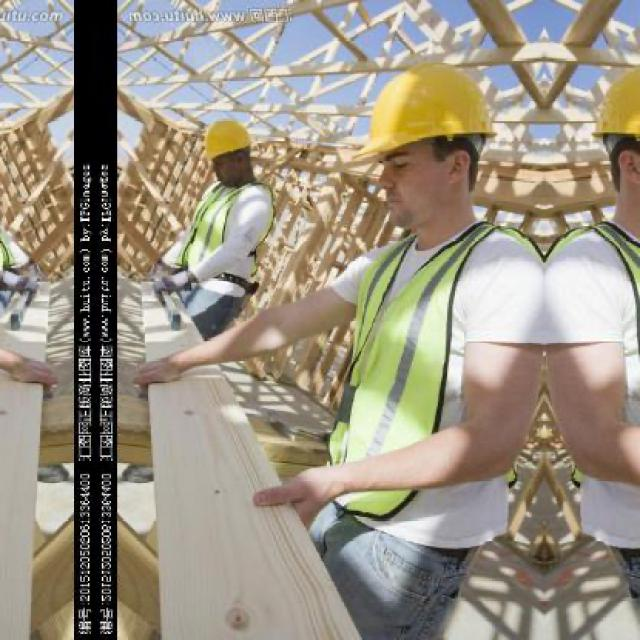helmet: (349, 50, 512, 242), (575, 51, 640, 243), (199, 109, 261, 188)
